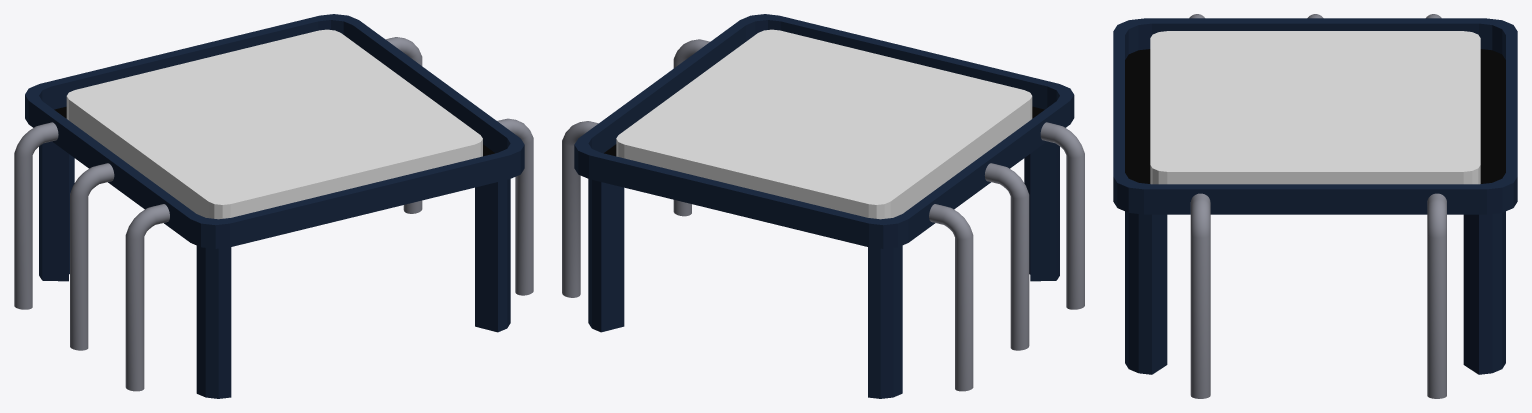
The model's file is mesa.fbx.
3 views of the same model, side by side, from view 1: azimuth 30°, elevation 25°; view 2: azimuth 150°, elevation 25°; view 3: azimuth 270°, elevation 25° (orthographic). The views are drawn at different scales.
Parts seen in each view (by area): view 1: Plane.001, Plane, Circle, Circle.001; view 2: Plane.001, Plane, Circle, Circle.001; view 3: Plane.001, Plane, Circle.001.
Part boxes in pixels (bbox=[...]): Plane.001: bbox=[66, 29, 482, 219]; Plane: bbox=[25, 14, 524, 398]; Circle: bbox=[14, 122, 169, 391]; Circle.001: bbox=[386, 37, 533, 295]; Plane.001: bbox=[616, 29, 1032, 219]; Plane: bbox=[574, 14, 1074, 398]; Circle: bbox=[929, 122, 1084, 391]; Circle.001: bbox=[562, 39, 709, 297]; Plane.001: bbox=[1150, 31, 1480, 184]; Plane: bbox=[1113, 18, 1517, 374]; Circle.001: bbox=[1190, 193, 1446, 398].
Bounding box in the file's own units: 247 × 106 × 200.
